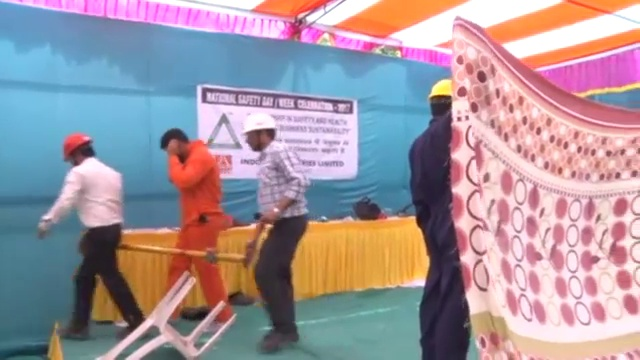helmet: (59, 132, 91, 160), (241, 112, 278, 135), (426, 77, 455, 98)
helmet_off: (159, 128, 191, 159)
helmet_on: (241, 113, 278, 153), (59, 132, 96, 168), (426, 77, 455, 118)
person: (32, 130, 146, 343), (408, 77, 472, 360), (240, 110, 308, 354), (156, 130, 233, 330)
